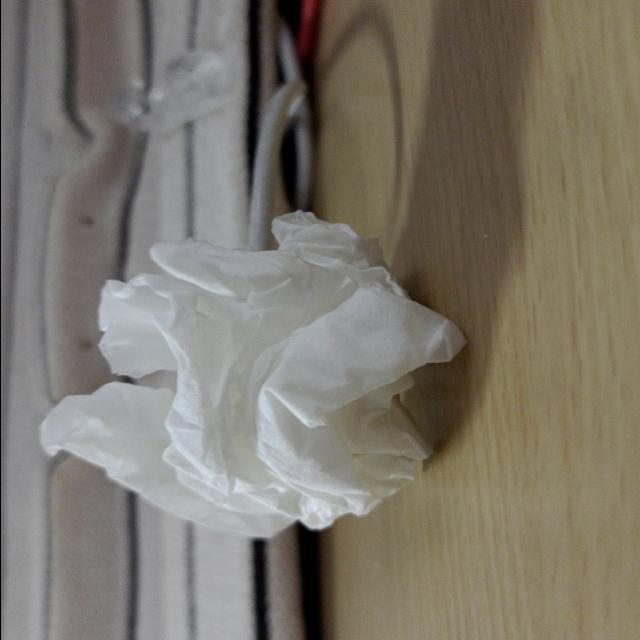Paper: (37, 172, 434, 534)
